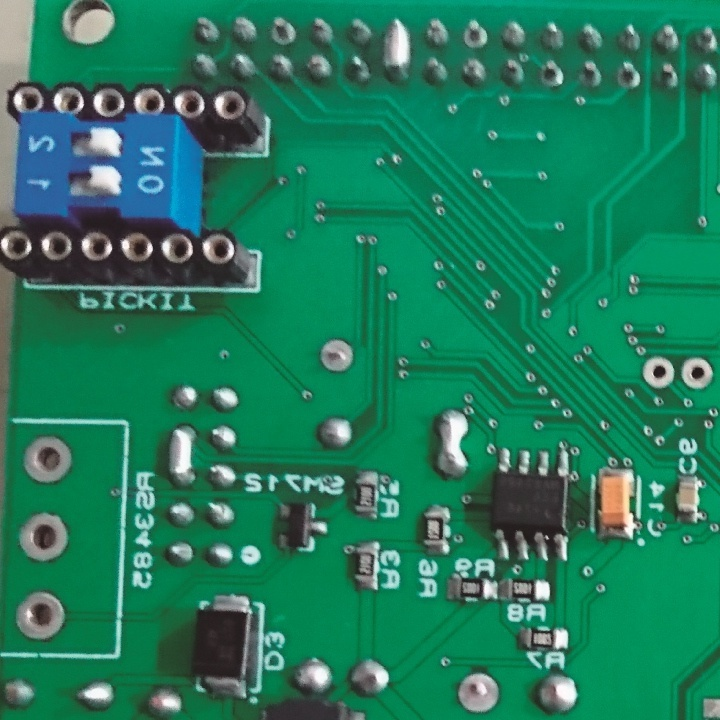F: (15, 508, 71, 564), (16, 590, 69, 644), (23, 434, 74, 489), (456, 665, 502, 718), (319, 333, 357, 378), (679, 354, 714, 392), (266, 10, 296, 49), (642, 355, 673, 391), (459, 17, 490, 49), (616, 58, 643, 91), (539, 59, 564, 89)
P: (432, 405, 472, 483), (167, 419, 202, 489), (380, 13, 414, 85)
